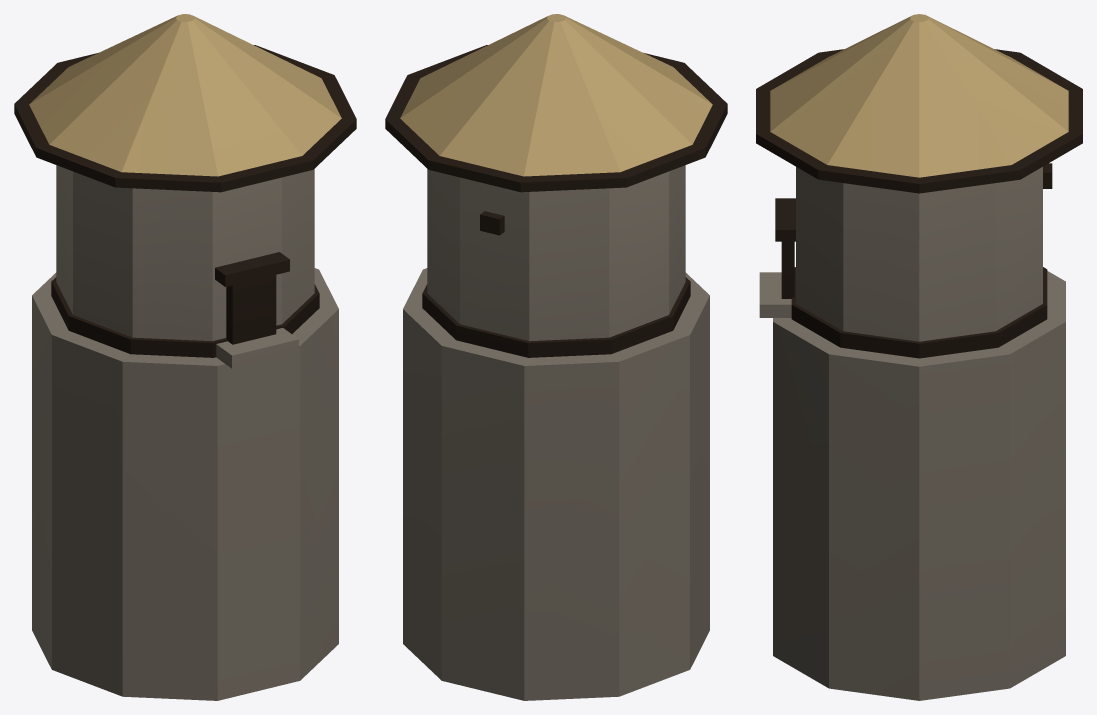
File: killke_qollqa_lod0.glb
The picture shows the model from 3 angles, left to right: view 1: azimuth 30°, elevation 25°; view 2: azimuth 150°, elevation 25°; view 3: azimuth 270°, elevation 25°; orthographic projection.
Visible parts, largest first — view 1: GEO-Arch_killke_qollqa_LOD0; view 2: GEO-Arch_killke_qollqa_LOD0; view 3: GEO-Arch_killke_qollqa_LOD0.
Boxes of the visible parts, x1,y1,x2,y2 form: GEO-Arch_killke_qollqa_LOD0: (14, 14, 356, 700); GEO-Arch_killke_qollqa_LOD0: (385, 14, 727, 700); GEO-Arch_killke_qollqa_LOD0: (756, 14, 1082, 700).
Bounding box in the file's own units: 4.24 × 8.41 × 4.03.
